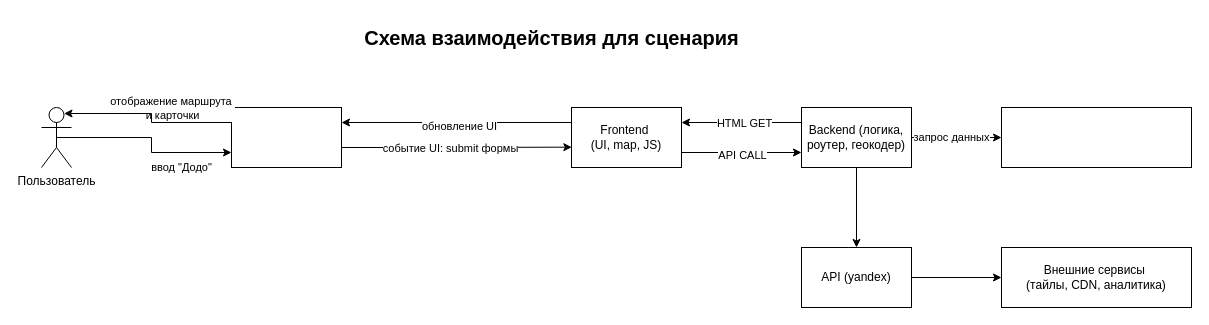
Some shapes in this 1209 by 325 pixel diagram are drawn without their labels. Here are the shapes that lost their labels. From the top down, the centre of each, then its label:
point 286,137: Бразуер
point 1096,137: Хранилище (база организаций, граф дорог, гео-индексы)
